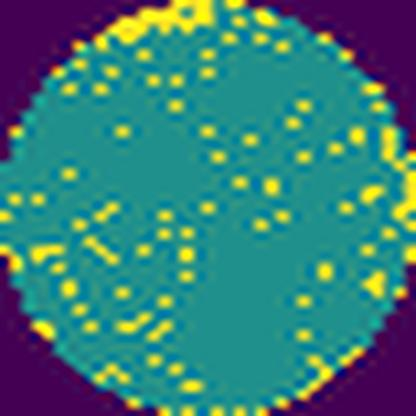Edge-Loc: (76, 0, 215, 49)
